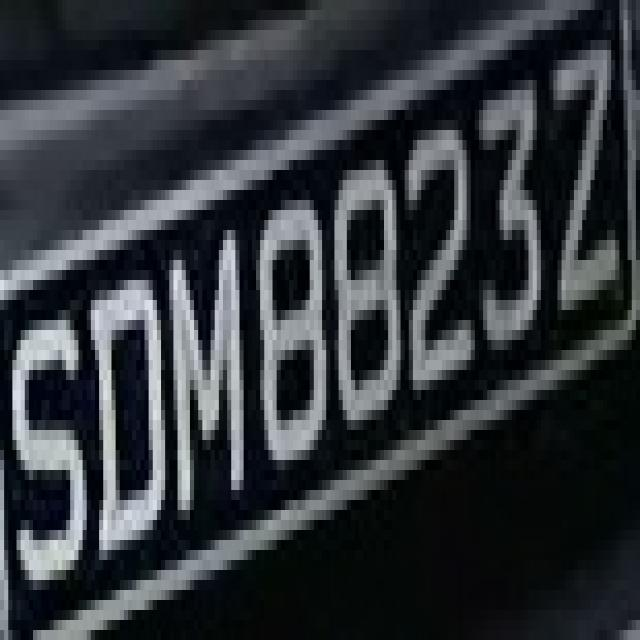2: (384, 90, 483, 390)
3: (467, 30, 549, 380)
8: (322, 150, 417, 460), (248, 180, 330, 500)
D: (82, 260, 174, 570)
M: (157, 210, 252, 520)
S: (4, 270, 91, 610)
Z: (524, 20, 624, 330)
